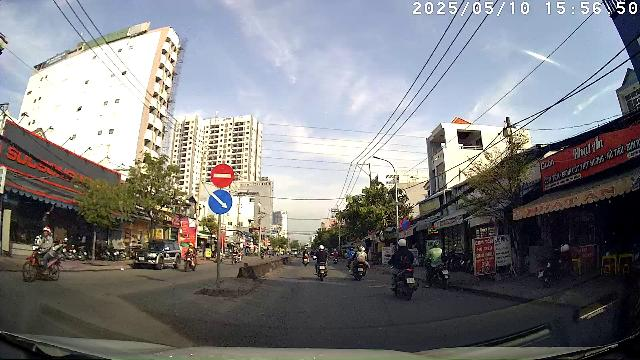102-cam-di-nguoc-chieu: (210, 164, 234, 188)
131a-cam-do-xe: (400, 220, 410, 230)
302a-huong-phai-di-vong-chuong-ngai-vat-1: (208, 190, 232, 214)
